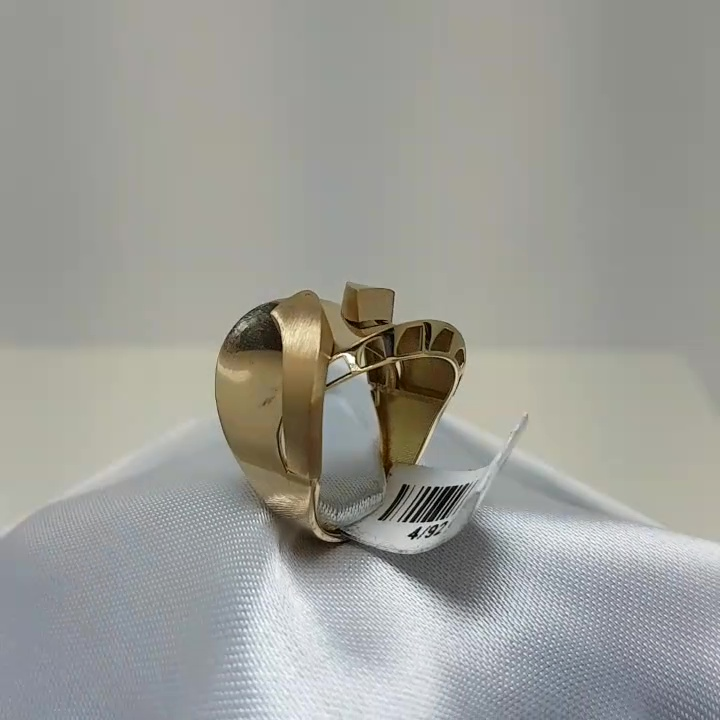Ring 4: (205, 274, 464, 547)
